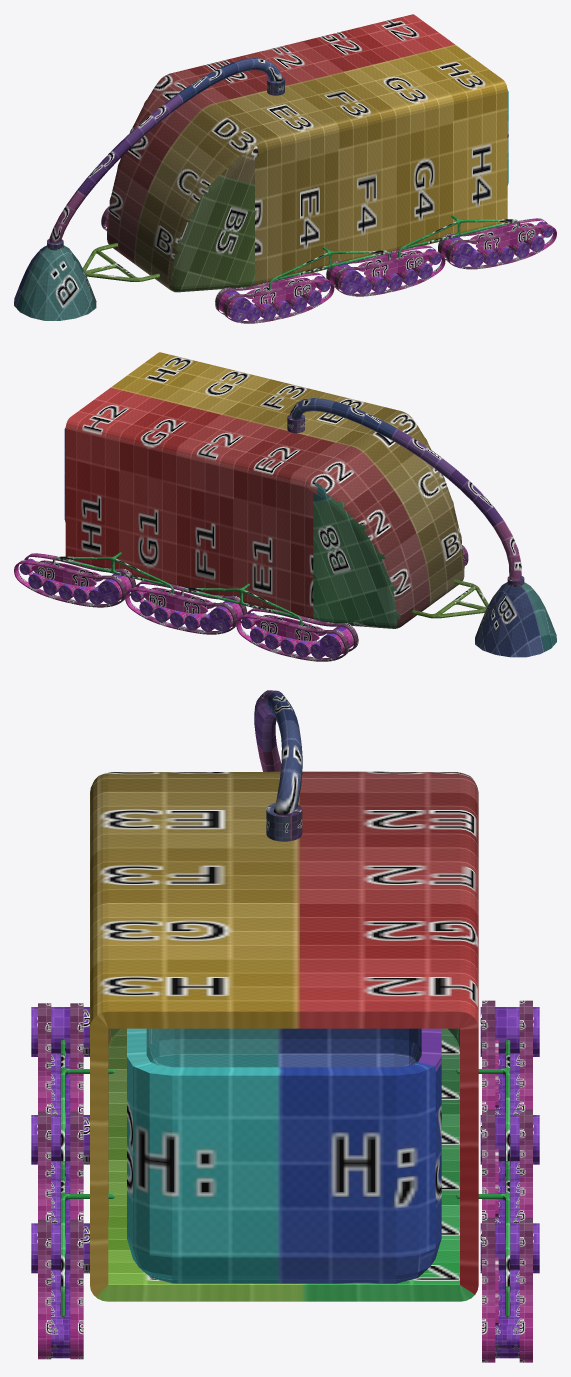
The model's file is MoonHarvester.obj.
3 views of the same model, one above another, from view 1: azimuth 30°, elevation 25°; view 2: azimuth 150°, elevation 25°; view 3: azimuth 270°, elevation 25° (orthographic). The views are drawn at different scales.
Parts seen in each view (by area): view 1: Cube.005, Cube.003, BezierCurve.001_Mesh.001, NurbsPath.008_Mesh, Plane.003, NurbsPath.009_Mesh, NurbsPath.011_Mesh, Plane.004, Plane.005_Plane.004, Cylinder.045_Cylinder, Cylinder.031_Cylinder, Cylinder.032_Cylinder (+4 smaller); view 2: Cube.005, Circle.017_Circle.002, Cube.003, BezierCurve.001_Mesh.001, Circle.014_Circle.005, NurbsPath.015_Mesh.003, NurbsPath.017_Mesh.007, NurbsPath.013_Mesh.004, Plane.003, Plane.006, Plane.007_Plane.001, NurbsPath.014_Mesh.006 (+3 smaller); view 3: Cube.005, Container_Cube.004, Circle.017_Circle.002, BezierCurve.001_Mesh.001, NurbsPath.016_Mesh.002, NurbsPath.015_Mesh.003, NurbsPath.010_Mesh, NurbsPath.009_Mesh, Cylinder.045_Cylinder, NurbsPath.017_Mesh.007, NurbsPath.013_Mesh.004, NurbsPath.008_Mesh (+12 smaller).
Boxes of the visible parts, box(x1,y1,x2,y2) form: Cube.005: box(106, 14, 507, 292); Cube.003: box(14, 245, 96, 320); BezierCurve.001_Mesh.001: box(49, 58, 282, 243); NurbsPath.008_Mesh: box(334, 251, 445, 296); Plane.003: box(83, 243, 159, 281); NurbsPath.009_Mesh: box(446, 224, 556, 269); NurbsPath.011_Mesh: box(223, 278, 334, 323); Plane.004: box(398, 215, 519, 257); Plane.005_Plane.004: box(269, 246, 390, 289); Cylinder.045_Cylinder: box(215, 287, 251, 321); Cylinder.031_Cylinder: box(438, 233, 474, 267); Cylinder.032_Cylinder: box(326, 260, 362, 294); Cube.005: box(65, 352, 464, 628); Circle.017_Circle.002: box(19, 558, 353, 658); Cube.003: box(475, 582, 556, 657); BezierCurve.001_Mesh.001: box(290, 398, 521, 580); Circle.014_Circle.005: box(31, 565, 207, 613); NurbsPath.015_Mesh.003: box(14, 560, 126, 607); NurbsPath.017_Mesh.007: box(236, 614, 348, 661); NurbsPath.013_Mesh.004: box(125, 587, 237, 634); Plane.003: box(412, 579, 488, 618); Plane.006: box(52, 552, 174, 593); Plane.007_Plane.001: box(181, 583, 302, 625); NurbsPath.014_Mesh.006: box(246, 608, 358, 653); Cube.005: box(90, 771, 478, 1301); Container_Cube.004: box(127, 1028, 441, 1283); Circle.017_Circle.002: box(480, 1007, 539, 1358); BezierCurve.001_Mesh.001: box(254, 690, 302, 814); NurbsPath.016_Mesh.002: box(482, 1217, 495, 1362); NurbsPath.015_Mesh.003: box(519, 1217, 532, 1362); NurbsPath.010_Mesh: box(70, 1219, 83, 1359); NurbsPath.009_Mesh: box(38, 1219, 51, 1359); Cylinder.045_Cylinder: box(31, 1007, 89, 1056); NurbsPath.017_Mesh.007: box(519, 1000, 532, 1109); NurbsPath.013_Mesh.004: box(519, 1109, 532, 1217); NurbsPath.008_Mesh: box(38, 1111, 51, 1219).
Bounding box in the file's own units: 8.24 × 3.42 × 3.82.
